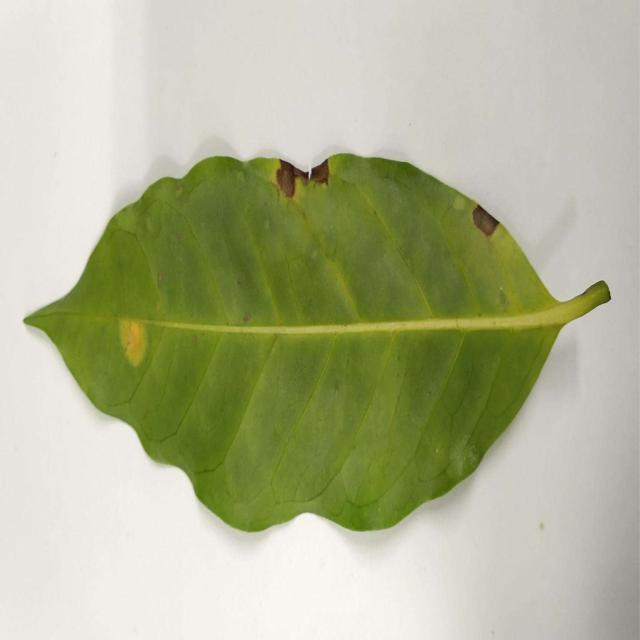Enfermedad-Mancha-de-hierro: (22, 153, 613, 536)
